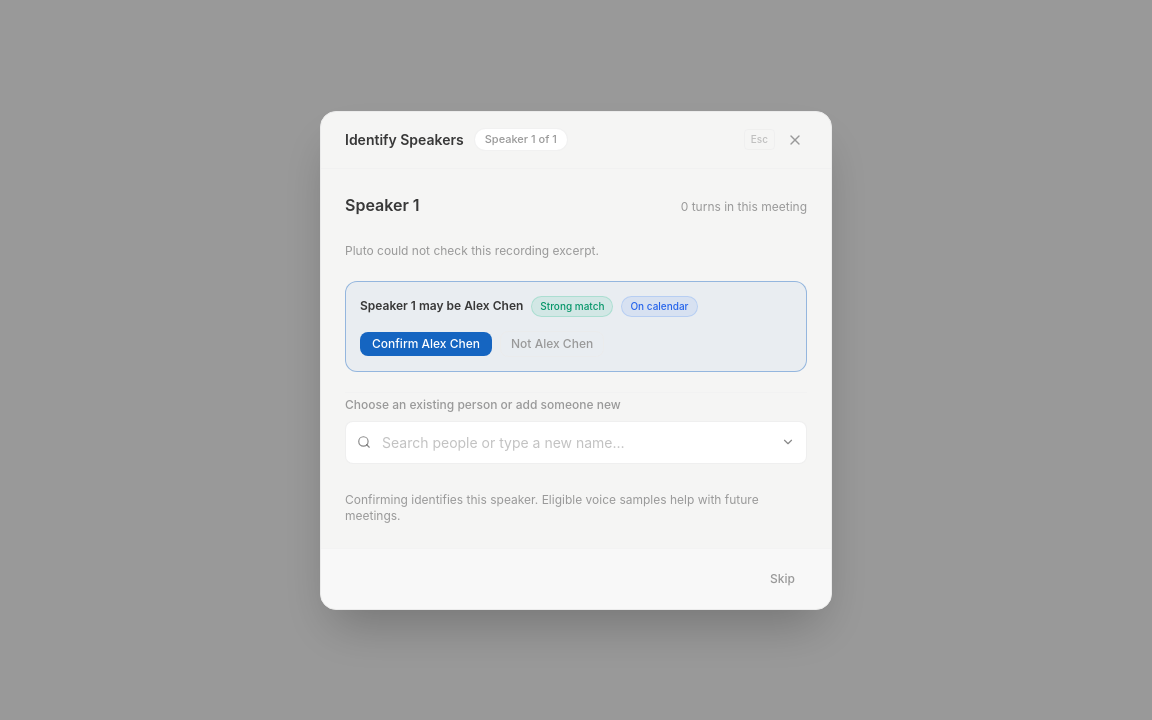
Test: SpeakerIdentificationModal voice profile suggestions and enrollment › rejects suggestion when Not Alex Chen is clicked and clears suggestion banner
Click the button "Not Alex Chen" at (552, 344), box [500,330,604,356]
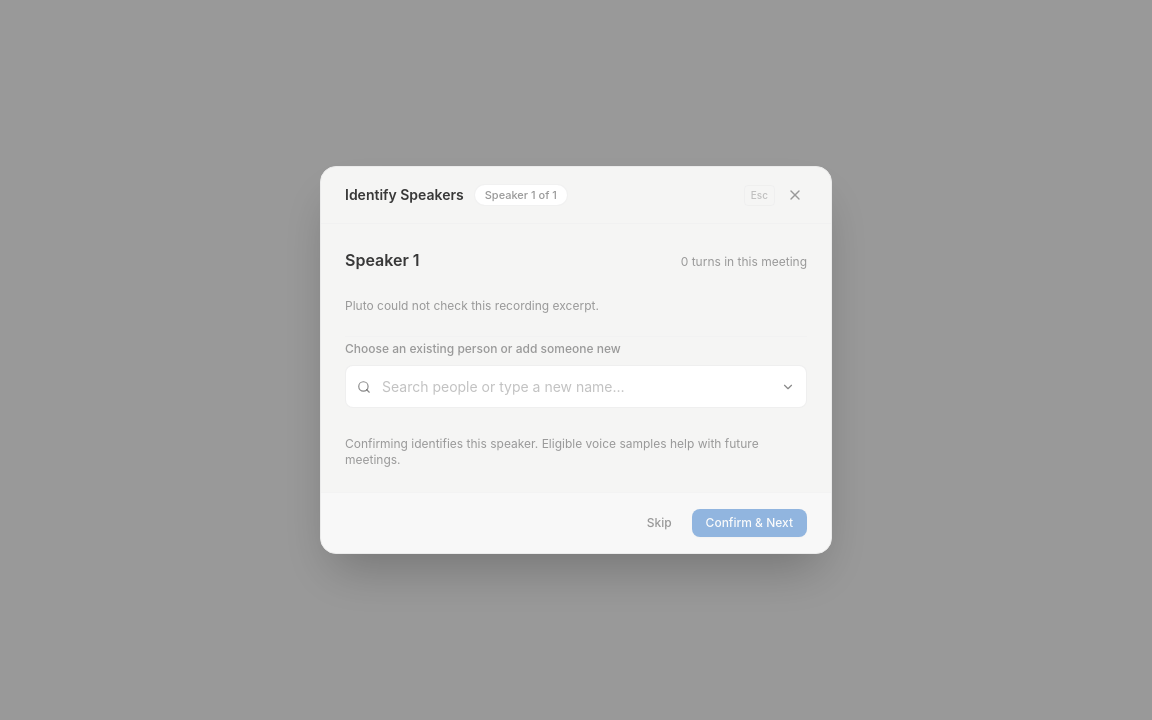
Now the text "Speaker 1 may be Alex Chen" is gone
